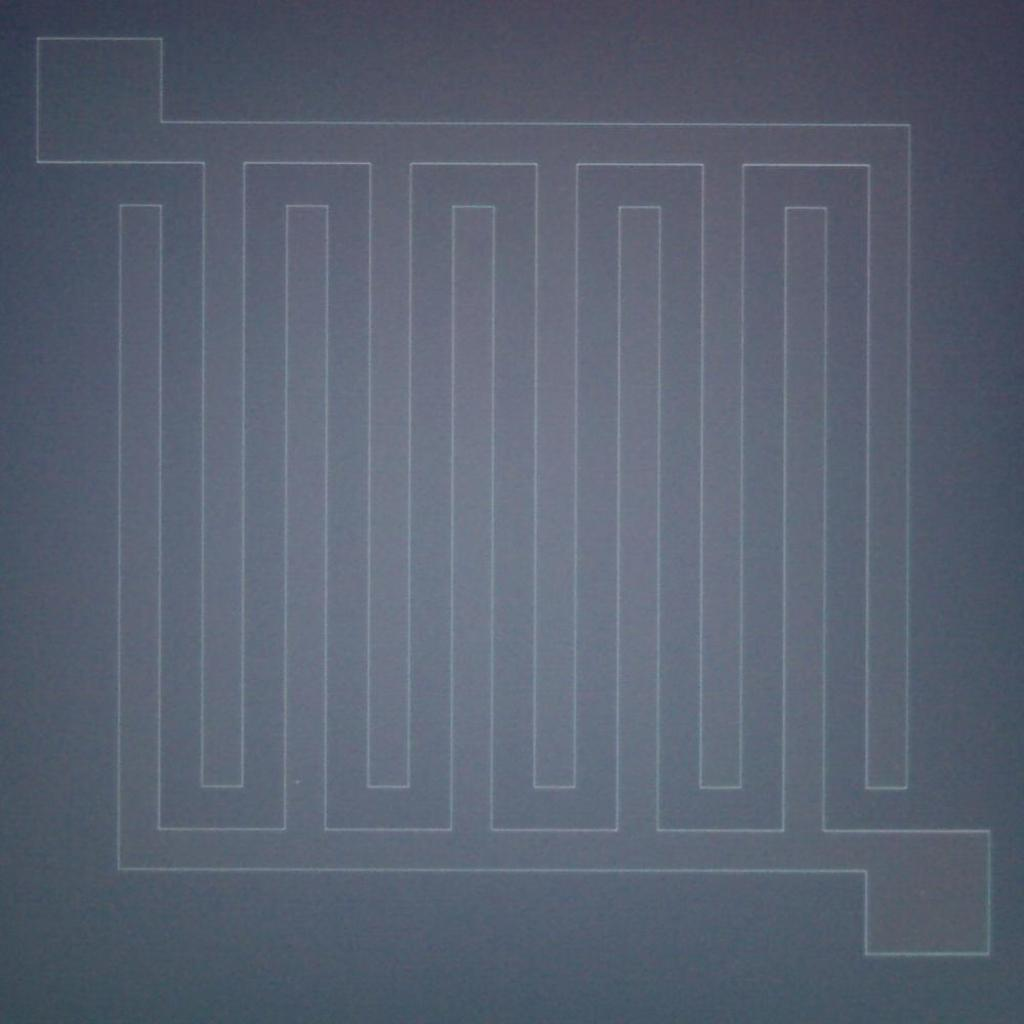dot: (294, 780, 300, 786)
